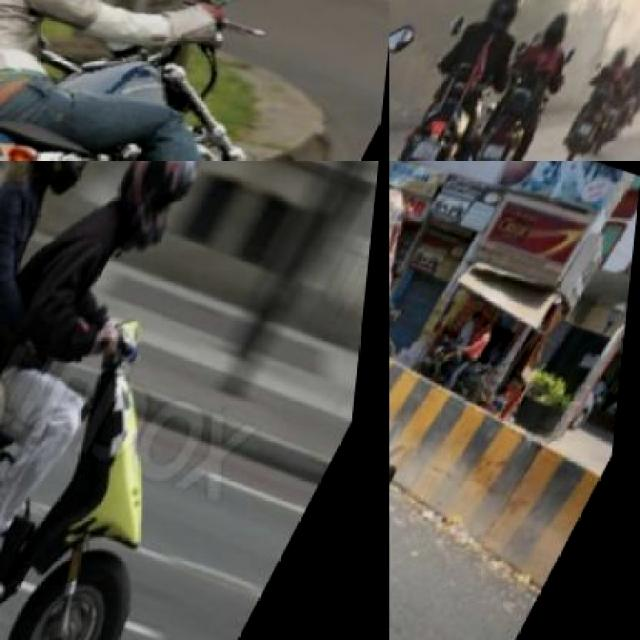With Helmet: (90, 160, 224, 278), (0, 160, 142, 226), (533, 2, 592, 72), (474, 0, 546, 54), (608, 43, 638, 86)
Without Helmet: (389, 185, 422, 269)
